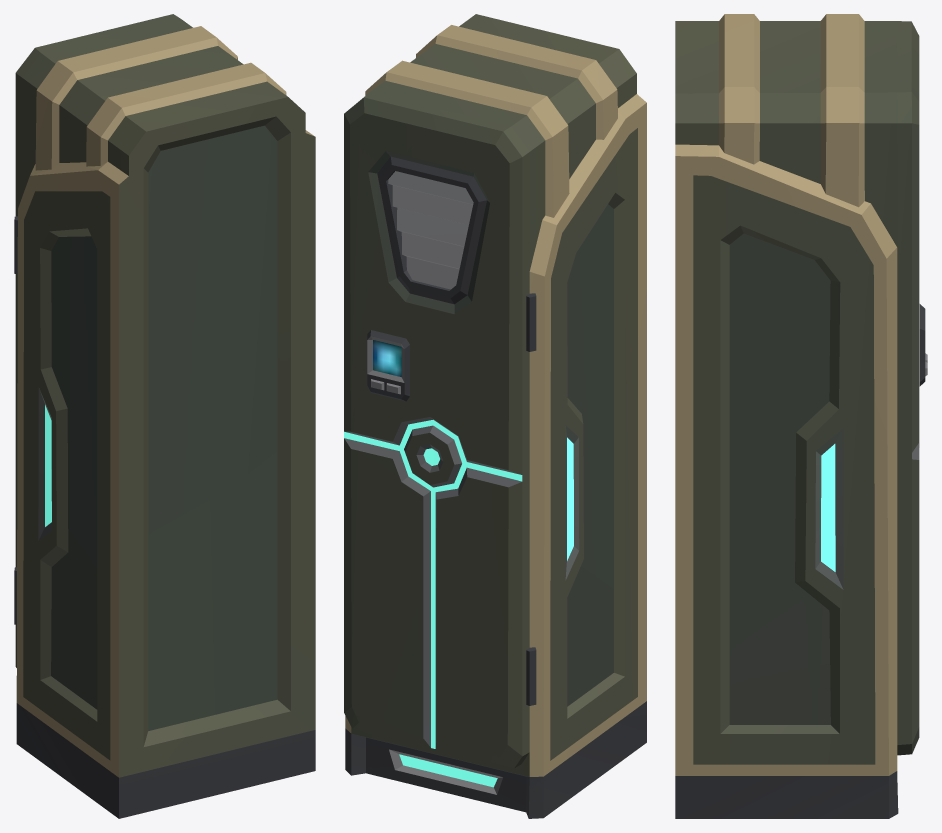
File: entity82778.glb
3 renders of one model, left to right at view 1: azimuth 30°, elevation 25°; view 2: azimuth 150°, elevation 25°; view 3: azimuth 270°, elevation 25°, orthographic. The views are drawn at different scales.
Visible parts, largest first — view 1: node_SM_Prop_Locker_01 (4), node_SM_Prop_Locker_01_Door_01; view 2: node_SM_Prop_Locker_01_Door_01, node_SM_Prop_Locker_01 (4); view 3: node_SM_Prop_Locker_01 (4), node_SM_Prop_Locker_01_Door_01.
Part boxes in pixels (x1,y1,x2,y2): node_SM_Prop_Locker_01 (4): (16, 19, 315, 818); node_SM_Prop_Locker_01_Door_01: (14, 14, 180, 667); node_SM_Prop_Locker_01_Door_01: (344, 92, 536, 768); node_SM_Prop_Locker_01 (4): (345, 14, 646, 818); node_SM_Prop_Locker_01 (4): (675, 14, 898, 818); node_SM_Prop_Locker_01_Door_01: (897, 21, 927, 755).
Bounding box in the file's own units: 0.6548 × 2.19 × 0.6973.
Materials: 2 (2 with a texture image).
